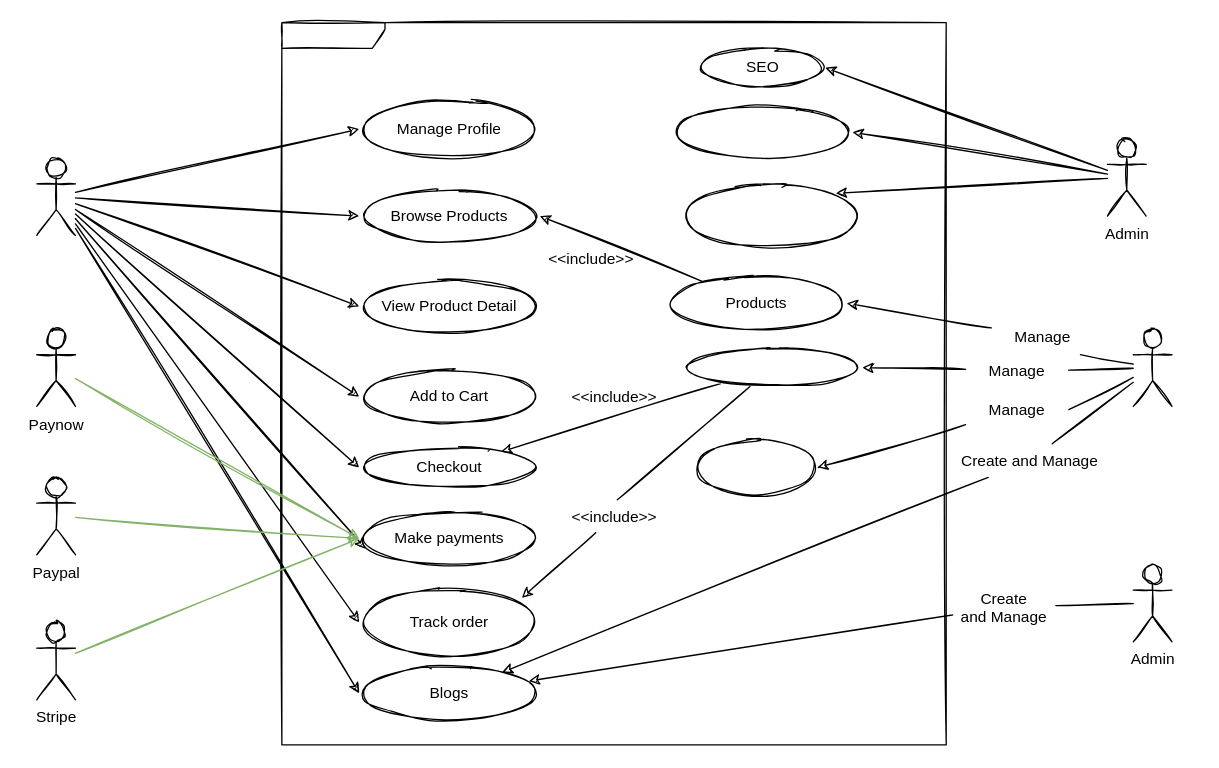
This 1219x768 diagram has some shape labels left out. The shapes that lost their labels are listed below. From the top down, each one's box as (x1, y1, x2, y2) in pixels, then its label:
(671, 105, 853, 158): Manage Users
(35, 157, 75, 235): Customer
(680, 183, 862, 248): Make Settings
(281, 21, 946, 745): Ecommerce
(680, 347, 862, 387): Order
(1132, 328, 1172, 406): Shop Keeper
(693, 437, 817, 497): Transaction(s)
